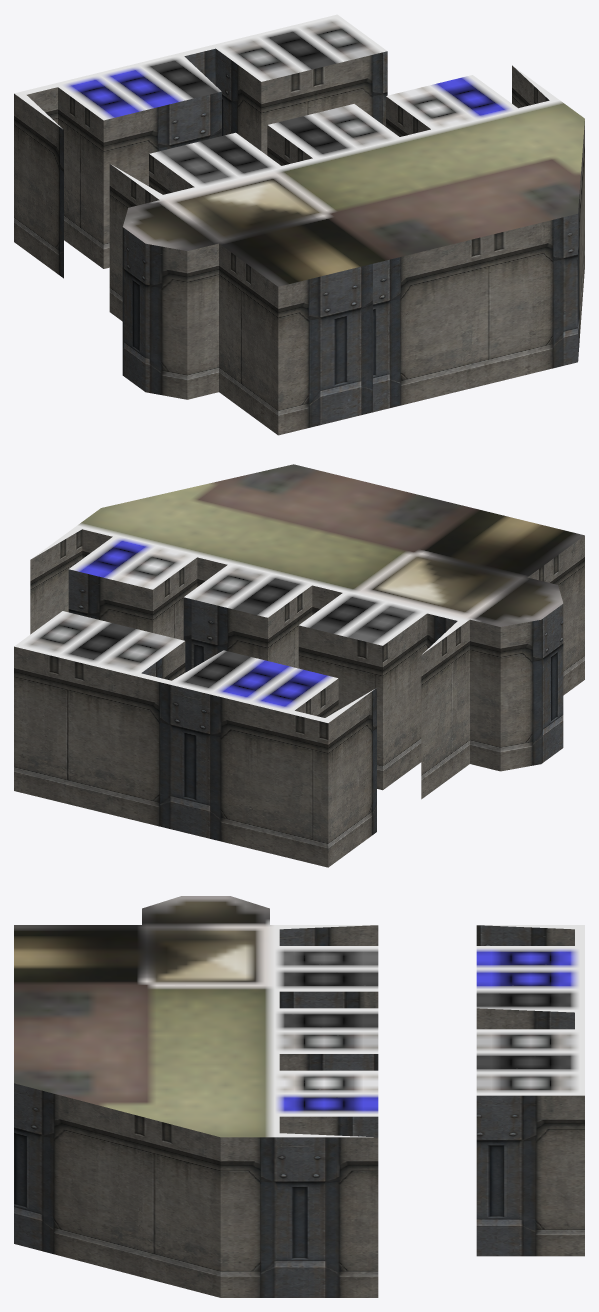
Rendered from BuildingSystem-03-Advance-03-Heavy-3-43-01.glb.
3 views of the same model, one above another, from view 1: azimuth 30°, elevation 25°; view 2: azimuth 150°, elevation 25°; view 3: azimuth 270°, elevation 25° (orthographic). The views are drawn at different scales.
Parts seen in each view (by area): view 1: buildings/saxarba/SMV_Buildings/BuildingSystem-03-Advance-03; view 2: buildings/saxarba/SMV_Buildings/BuildingSystem-03-Advance-03; view 3: buildings/saxarba/SMV_Buildings/BuildingSystem-03-Advance-03.
Boxes of the visible parts, x1=… form: buildings/saxarba/SMV_Buildings/BuildingSystem-03-Advance-03: x1=14, y1=14, x2=584, y2=435; buildings/saxarba/SMV_Buildings/BuildingSystem-03-Advance-03: x1=14, y1=464, x2=584, y2=867; buildings/saxarba/SMV_Buildings/BuildingSystem-03-Advance-03: x1=14, y1=896, x2=584, y2=1297.
Size of the model in its own units: 58 by 18 by 58.
